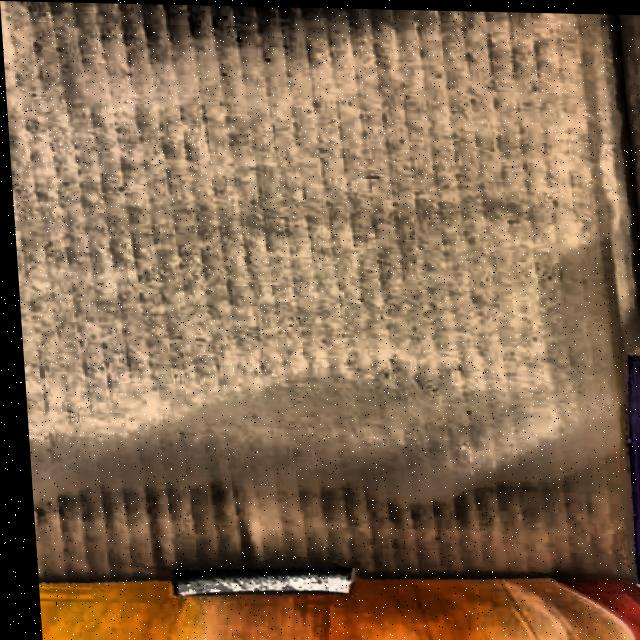cardboard: (37, 562, 640, 640)
